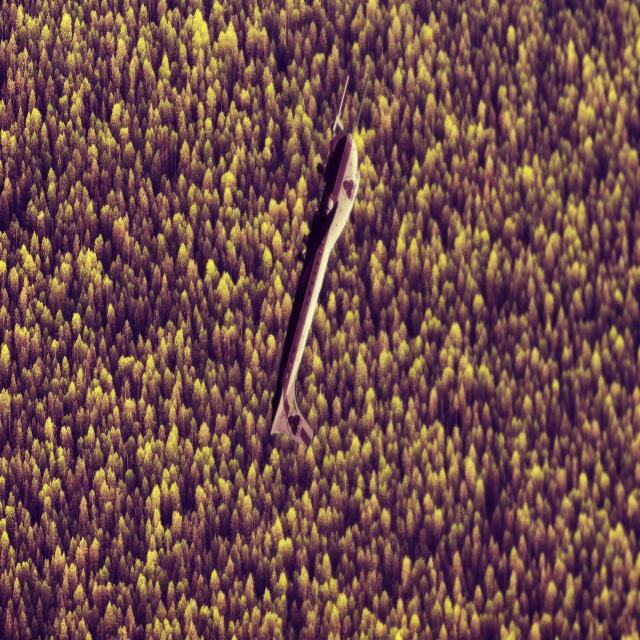airplane: (269, 74, 369, 451)
